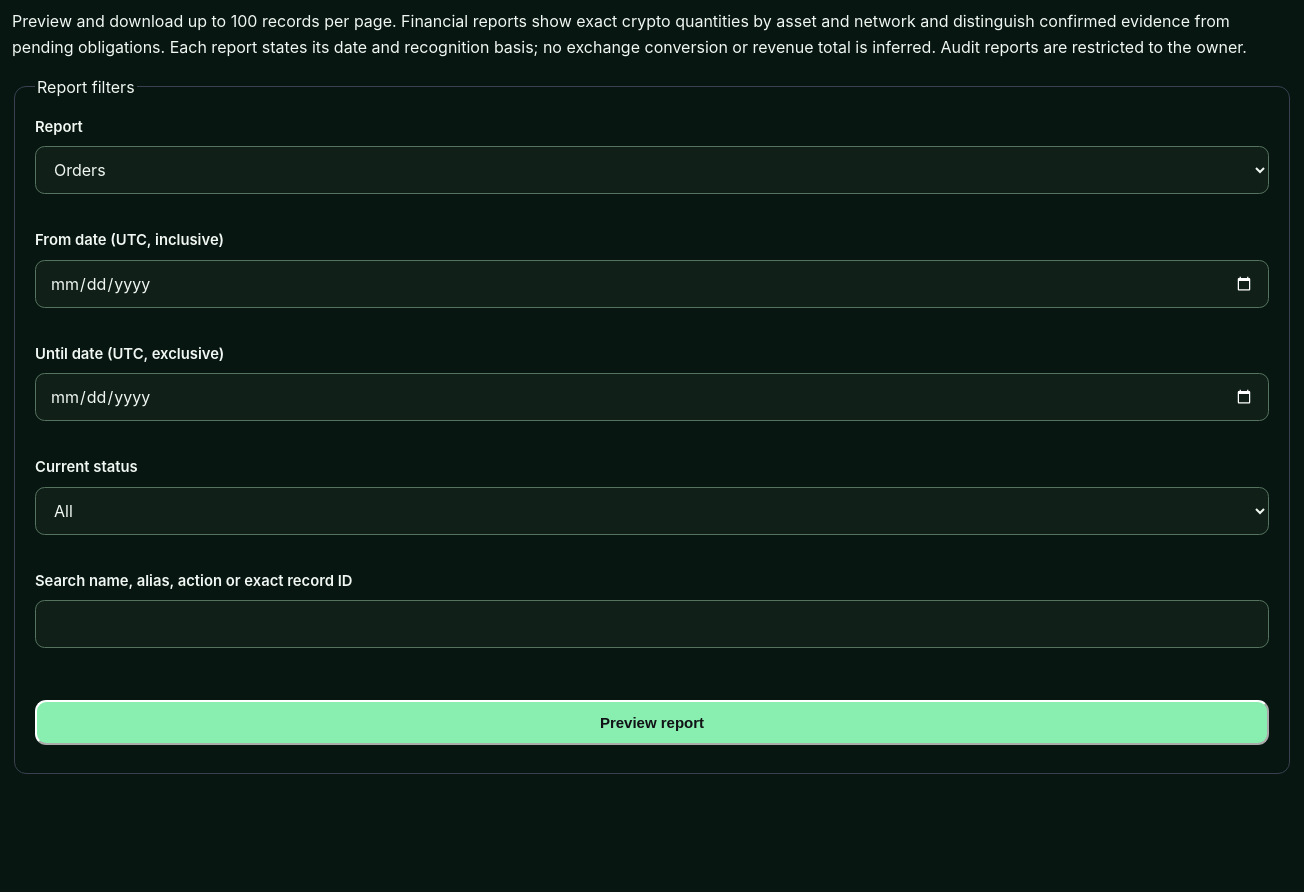
Scenario: rejects stale previews visibly and never downloads a guessed replacement
Type "2026-09-01" into the date field labelled "From date (UTC, inclusive)" at (652, 284), box [35,260,1269,308]
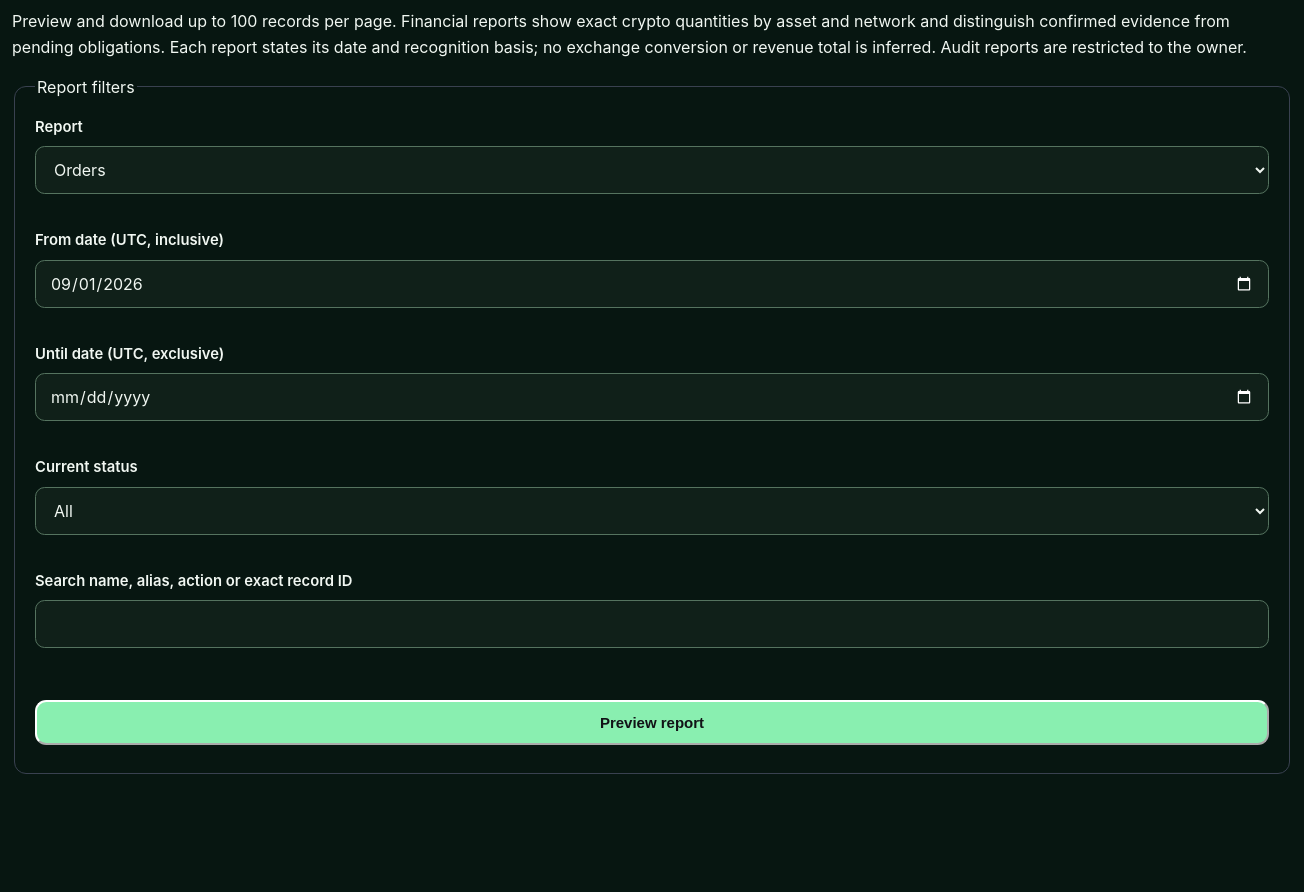
Type "2026-10-01" into the date field labelled "Until date (UTC, exclusive)" at (652, 397), box [35,373,1269,421]
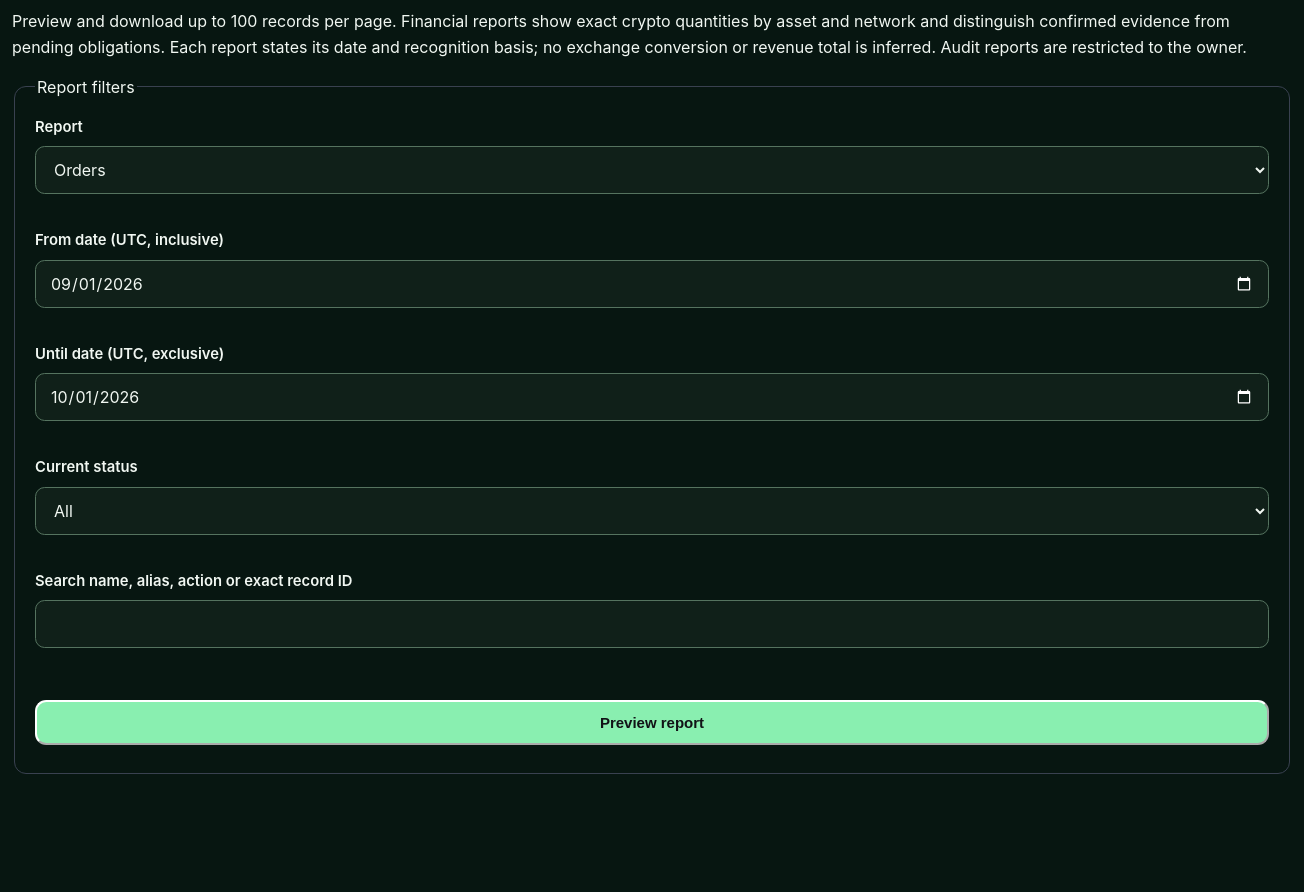
Click the button "Preview report" at (652, 722), box [35,700,1269,745]
(page scrolled)
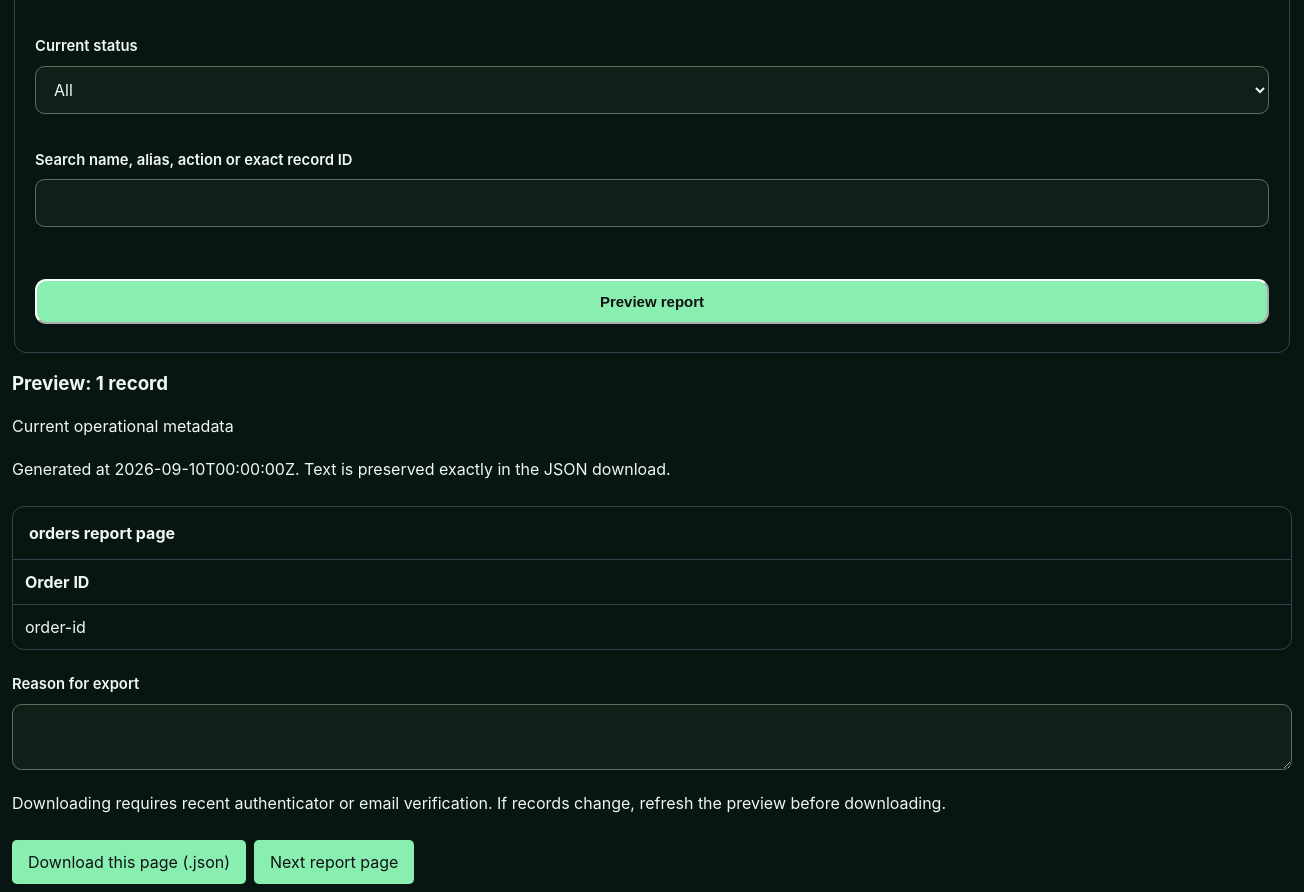
Expected: the text "order-id" is shown, [13,605,1291,649]
Type "Review" into the text box labelled "Reason for export" at (652, 737), box [12,704,1292,770]
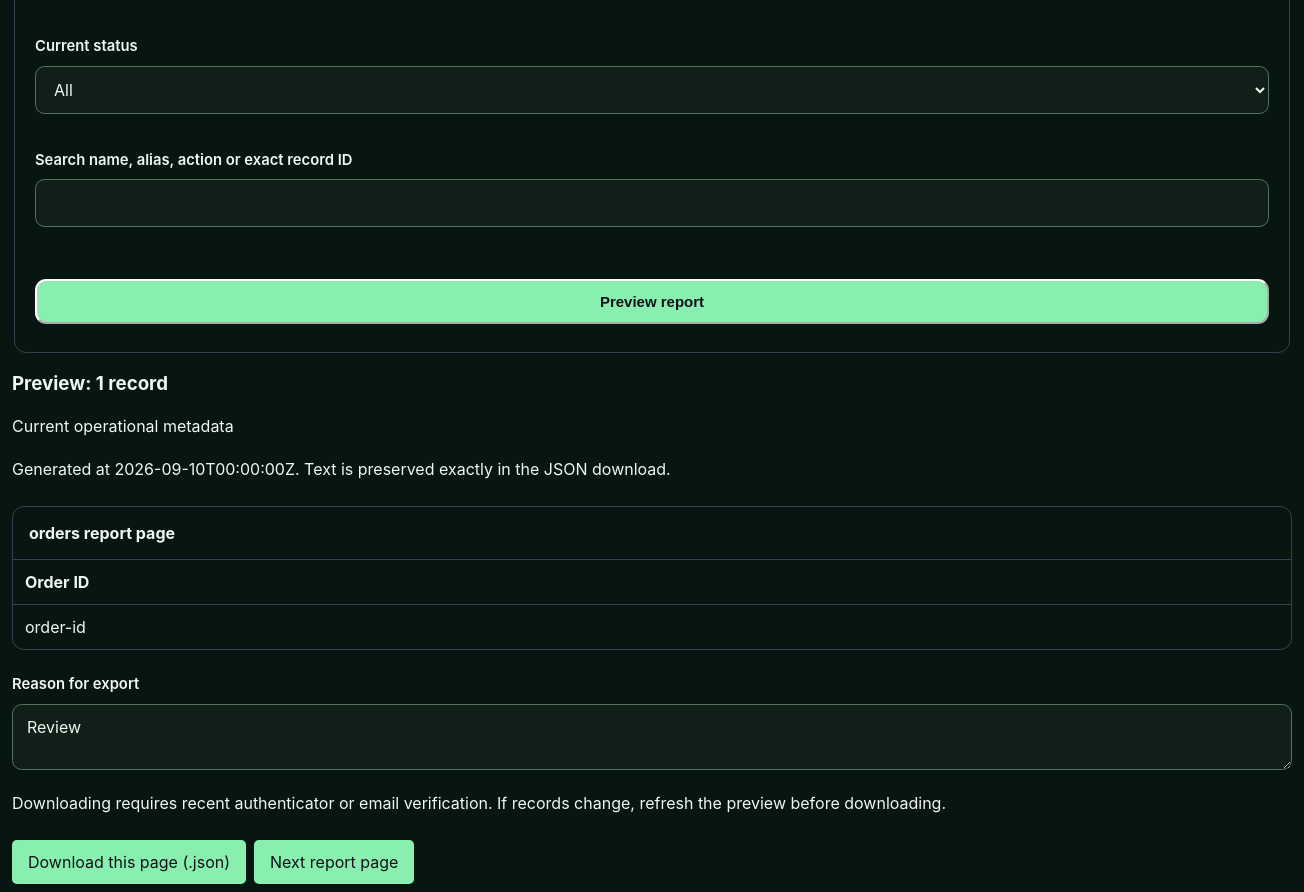
Click the button "Download this page (.json)" at (129, 862), box [12,840,246,884]
(page scrolled)
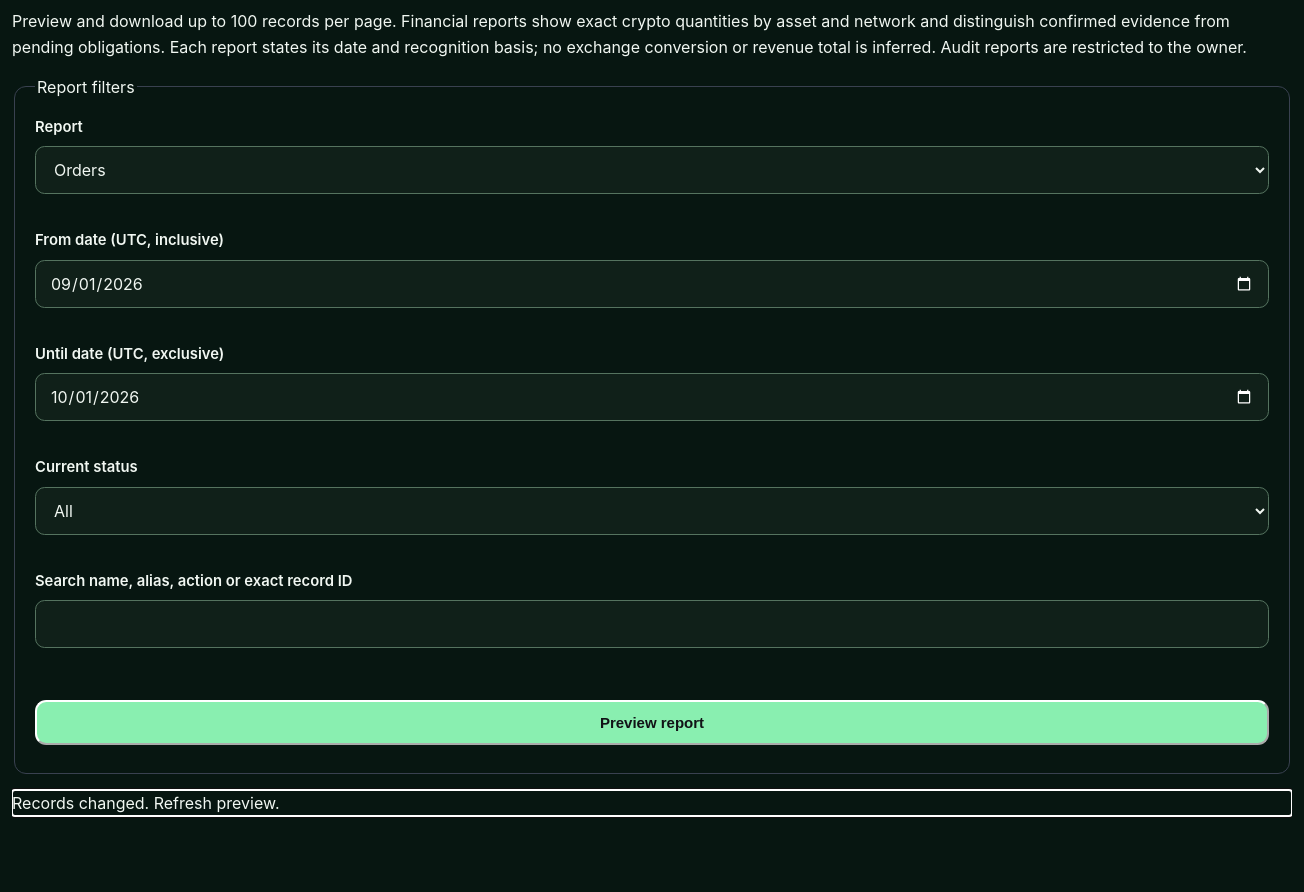
Expected: the message "Records changed. Refresh preview." is shown, [12,793,280,813]
Expected: the text "order-id" is gone
